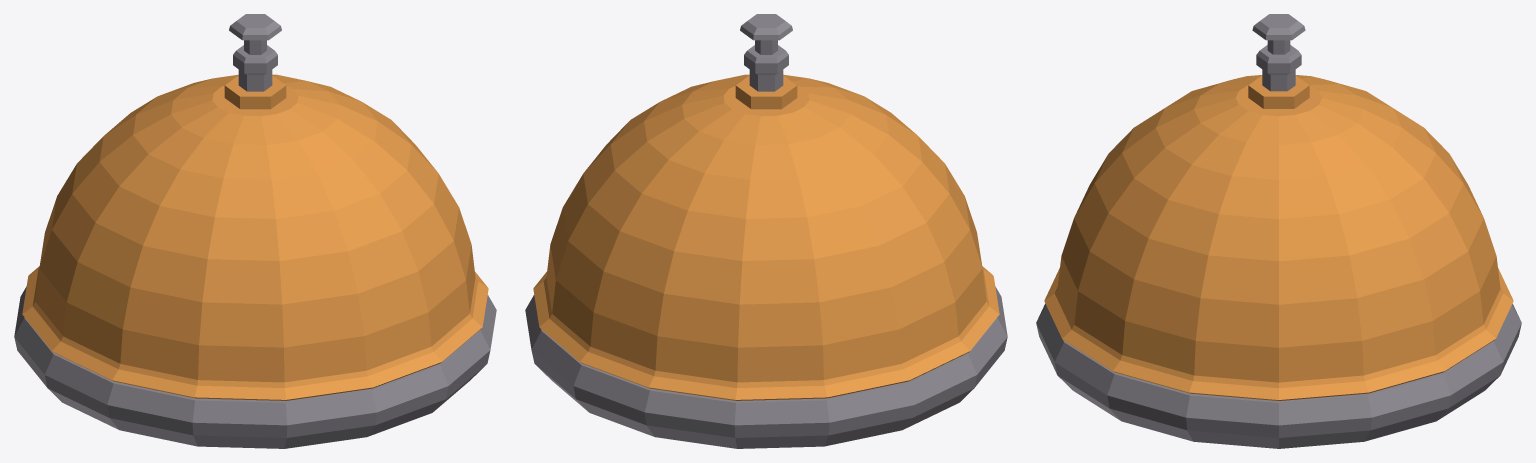
File: Bell.fbx
3 renders of one model, left to right at view 1: azimuth 30°, elevation 25°; view 2: azimuth 150°, elevation 25°; view 3: azimuth 270°, elevation 25°, orthographic.
Visible parts, largest first — view 1: Circle, Circle.002; view 2: Circle, Circle.002; view 3: Circle, Circle.002.
Boxes of the visible parts, box(x1,y1,x2,y2) form: Circle: box(14, 74, 496, 448); Circle.002: box(229, 14, 281, 91); Circle: box(525, 74, 1007, 448); Circle.002: box(740, 14, 792, 91); Circle: box(1036, 75, 1521, 448); Circle.002: box(1252, 14, 1305, 91).
Bounding box in the file's own units: 218 × 165 × 218.
